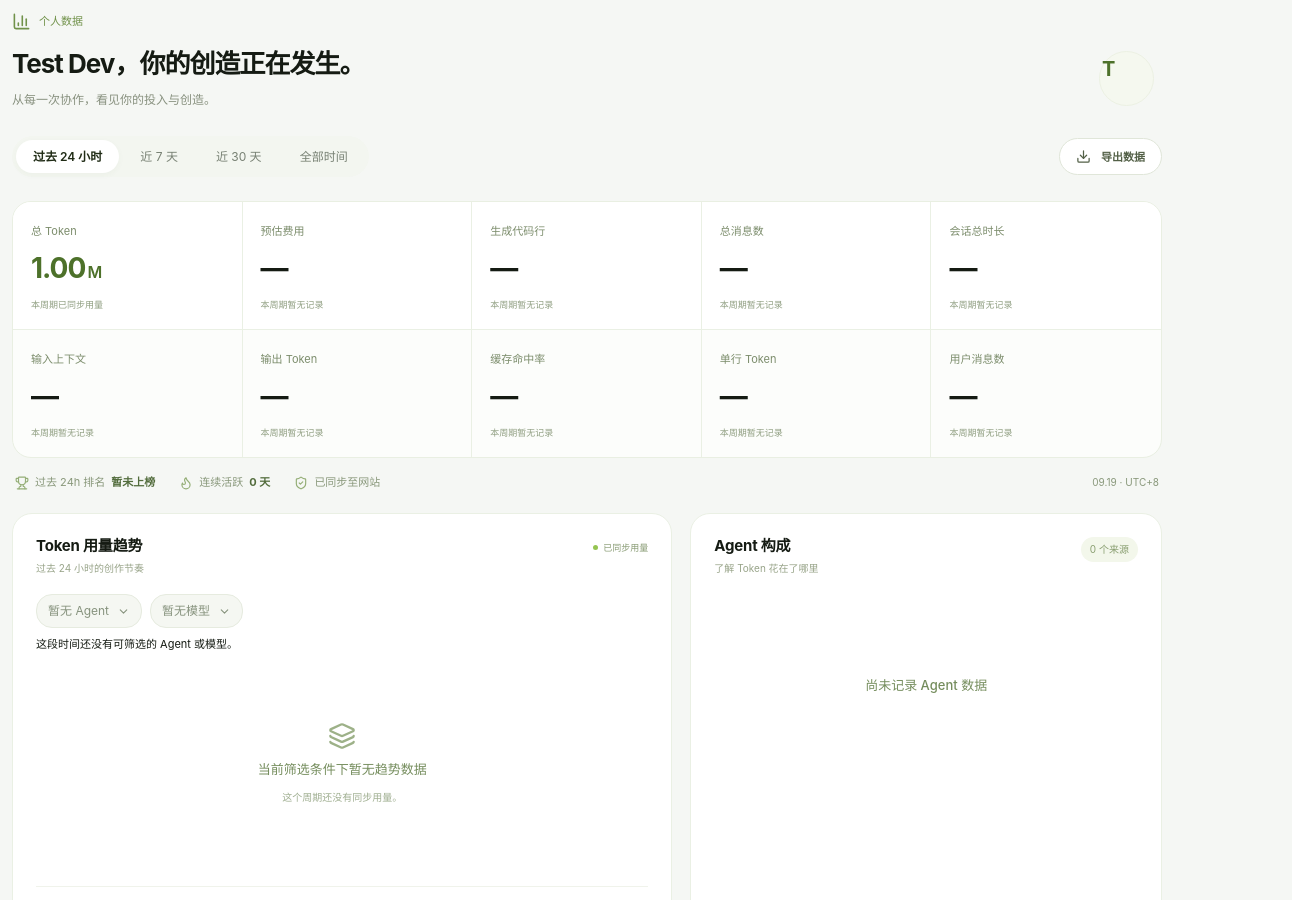
Test: personal analytics period switching › keeps the newest period when an older request finishes last
The image size is (1292, 900).
Expected: the text "1.00" is shown, [31,251,85,285]
Click the button "近 7 天".
click(159, 157)  # box [123,140,195,174]
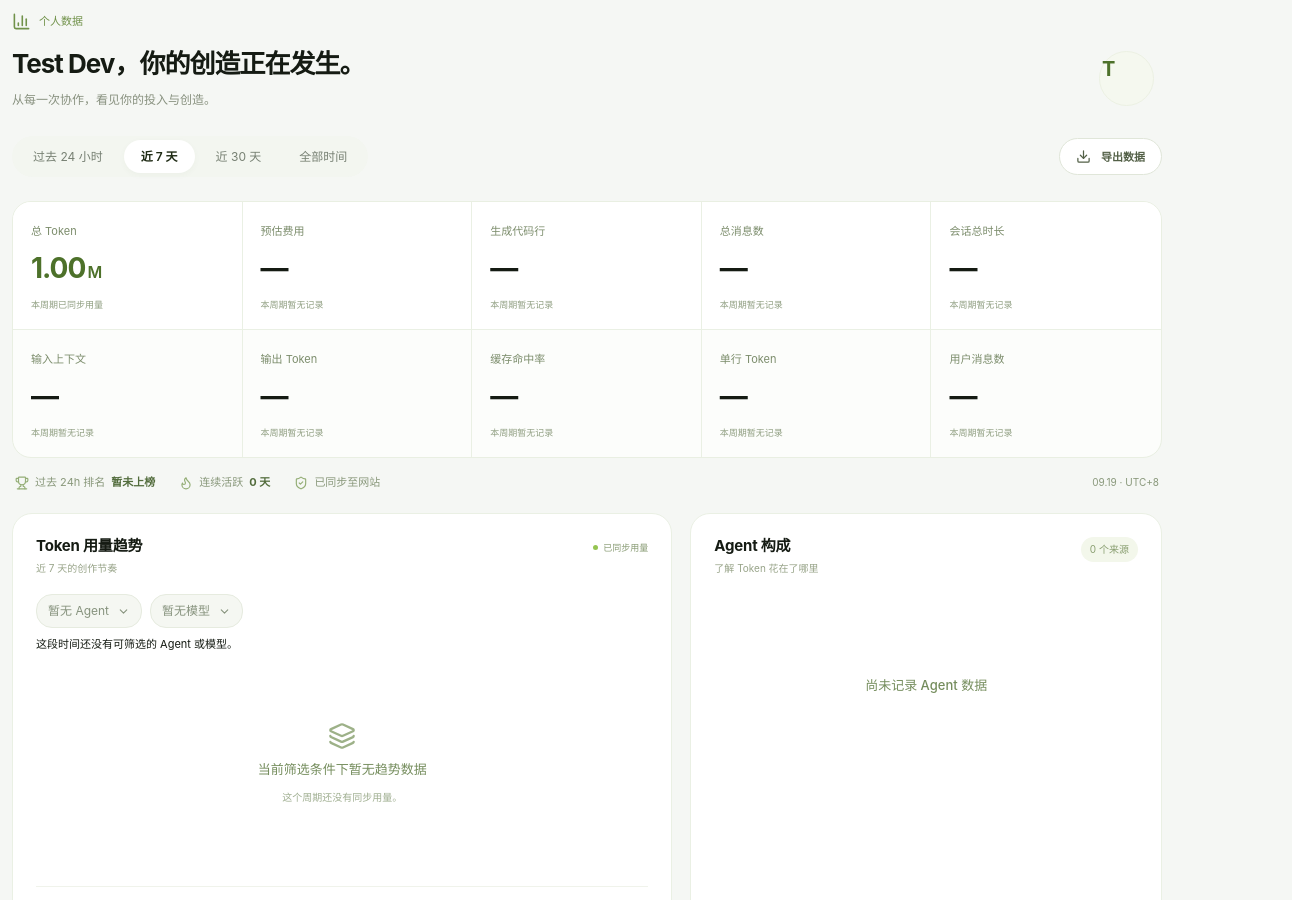
Click the button "近 30 天".
click(238, 157)  # box [199,140,278,174]
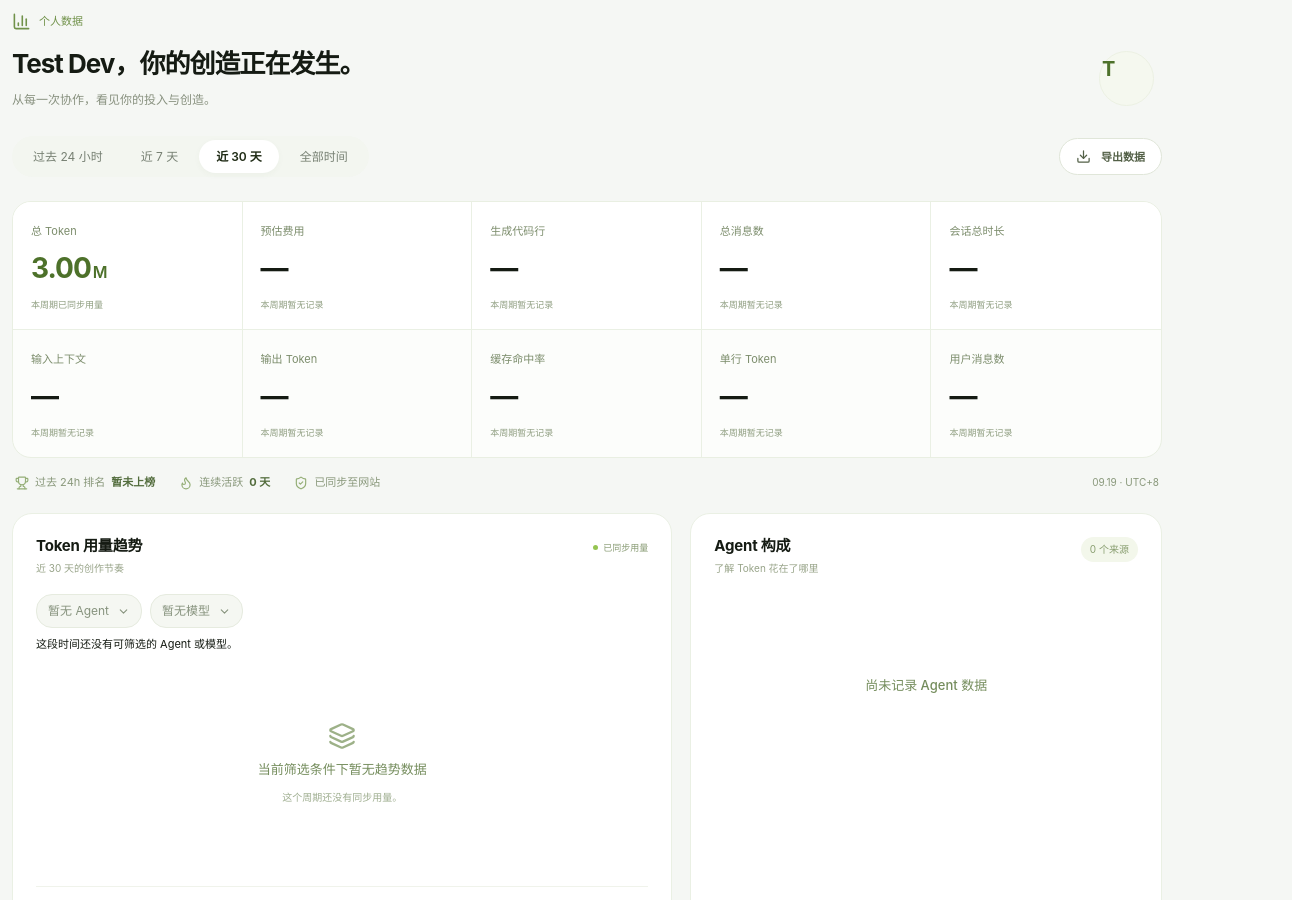
Now the element showing "总 Token 3.00M 本周期已同步用量" is shown, box [13,202,243,330]
